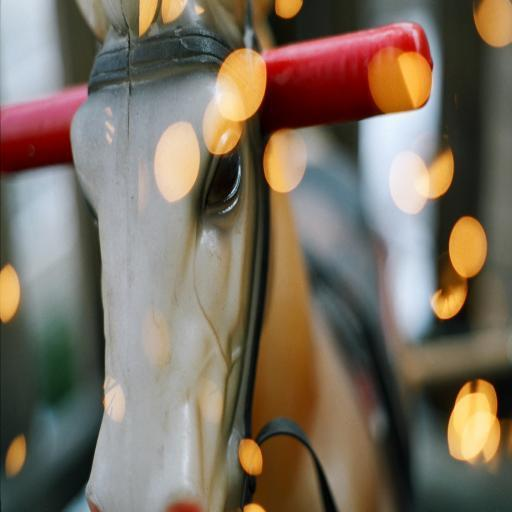horse: (69, 0, 391, 512)
